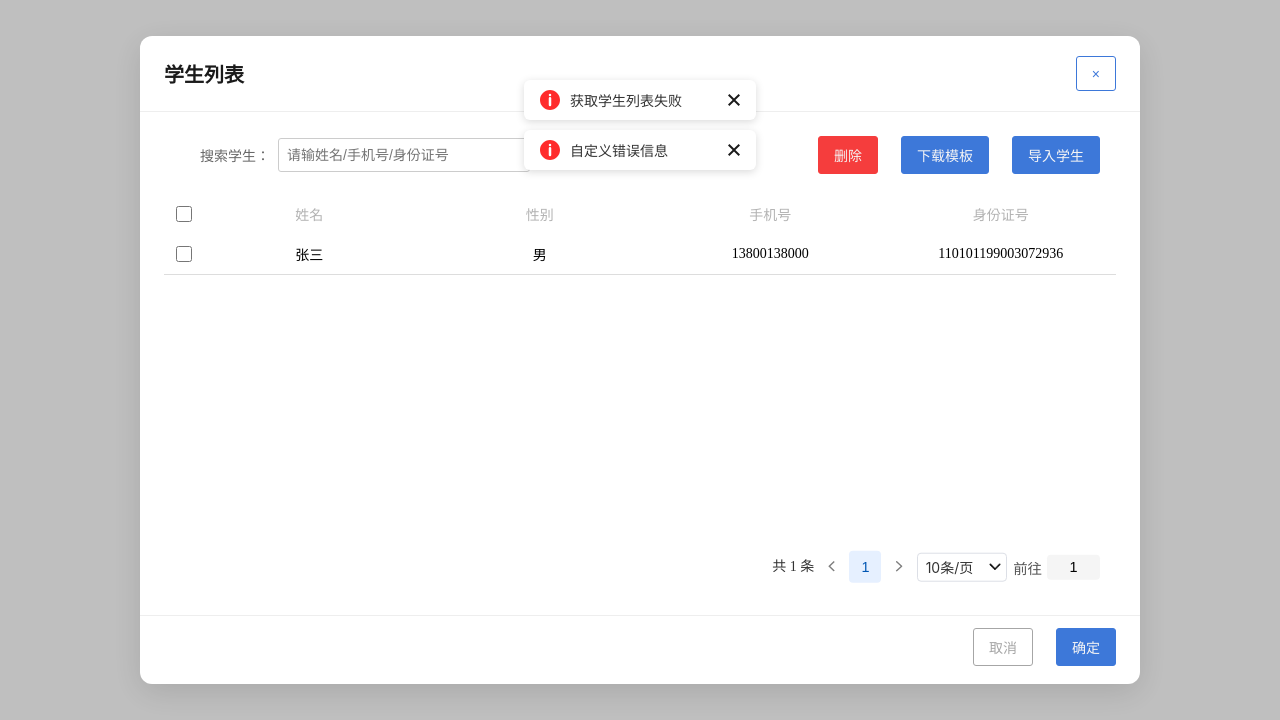
Test: StudentSelectionPanel 组件 › 学生操作功能 › 删除学生功能
This screenshot has width=1280, height=720.
Expected: the text "张三" is shown, 194,234 -> 424,274
Click the button "删除": click(848, 155) 818,136 -> 878,174
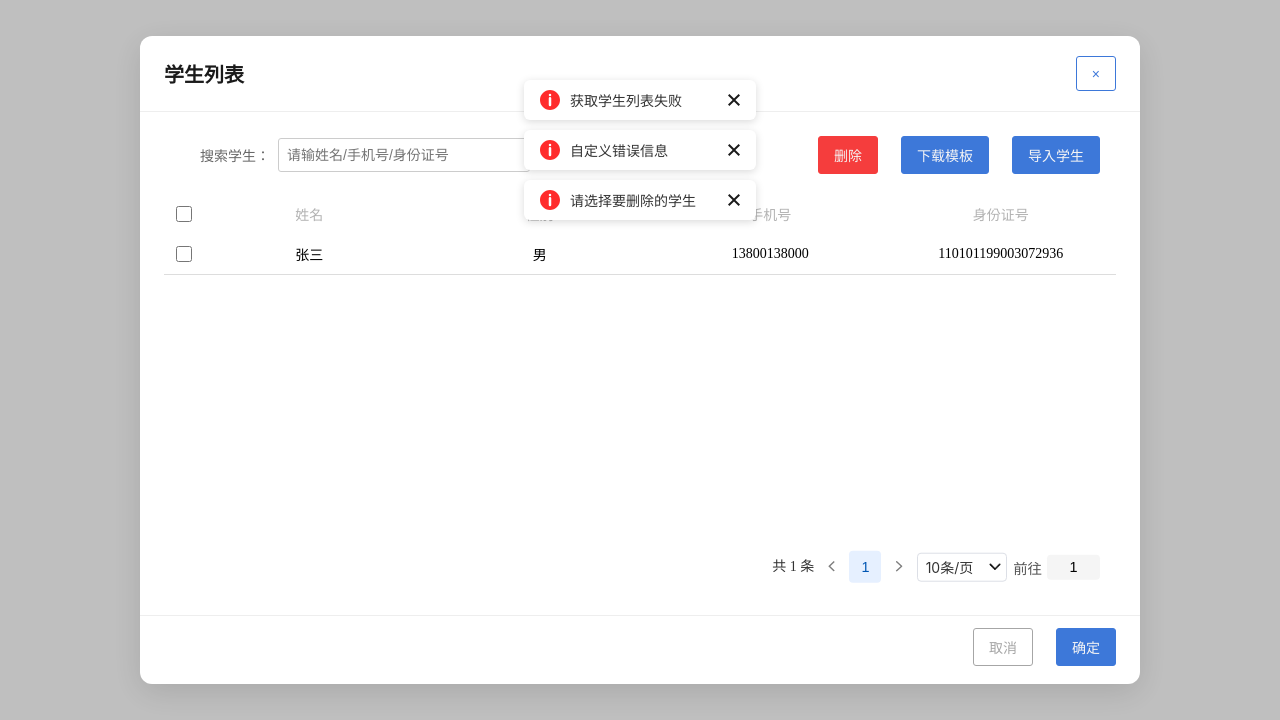
Expected: the text "请选择要删除的学生" is shown, 570,190 -> 718,210
